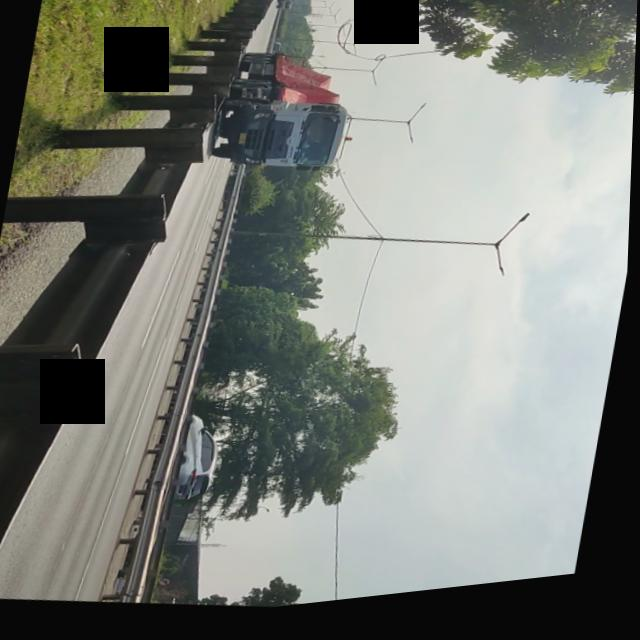Golongan V: (207, 43, 366, 194)
